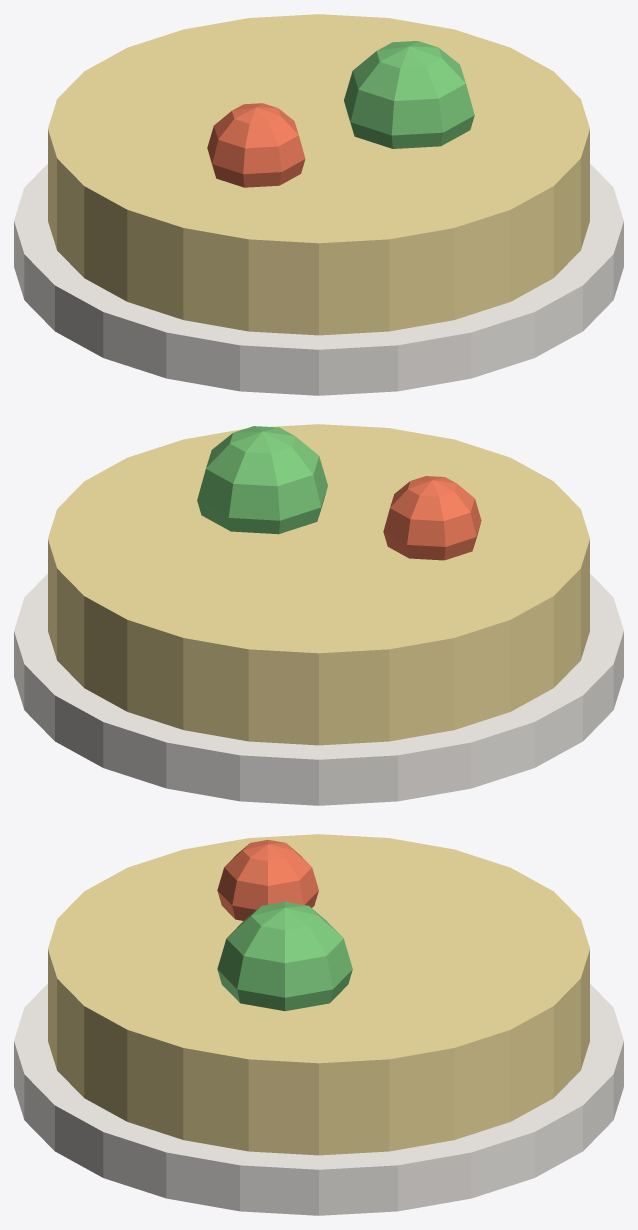
Rendered from biryani.glb.
3 views of the same model, one above another, from view 1: azimuth 30°, elevation 25°; view 2: azimuth 150°, elevation 25°; view 3: azimuth 270°, elevation 25° (orthographic).
Size of the model in its own units: 0.36 by 0.14 by 0.36.
